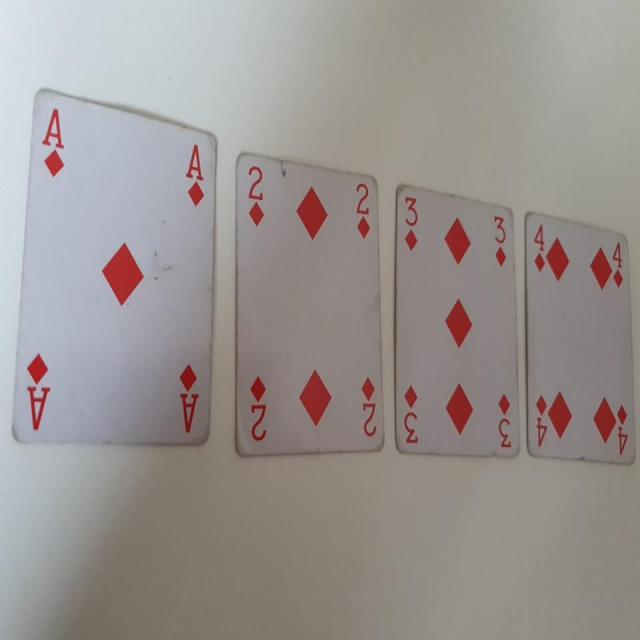2 Diamonds: (236, 145, 386, 459)
3 Diamonds: (391, 182, 522, 460)
4 Diamonds: (524, 210, 640, 472)
A Diamonds: (8, 82, 218, 453)
